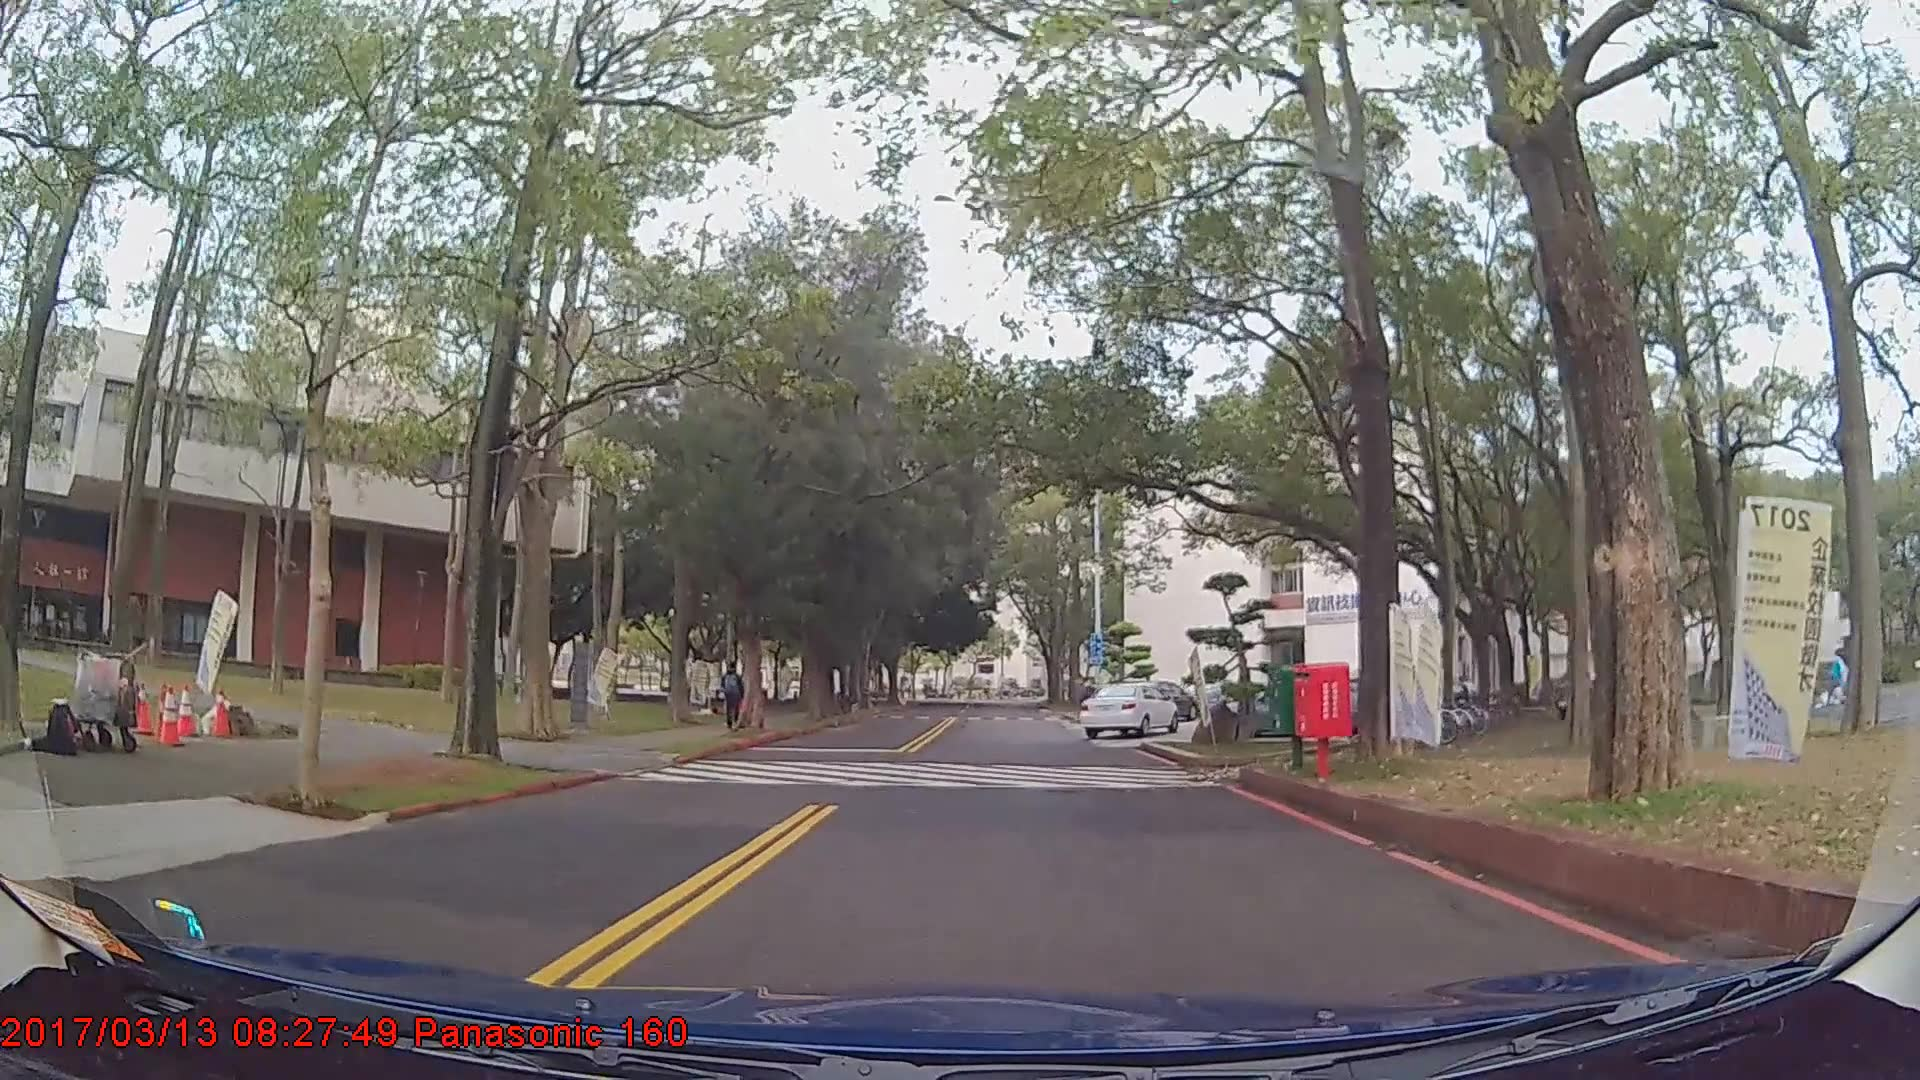pedestrian: (720, 667, 748, 735)
vehicle: (1078, 680, 1180, 738)
